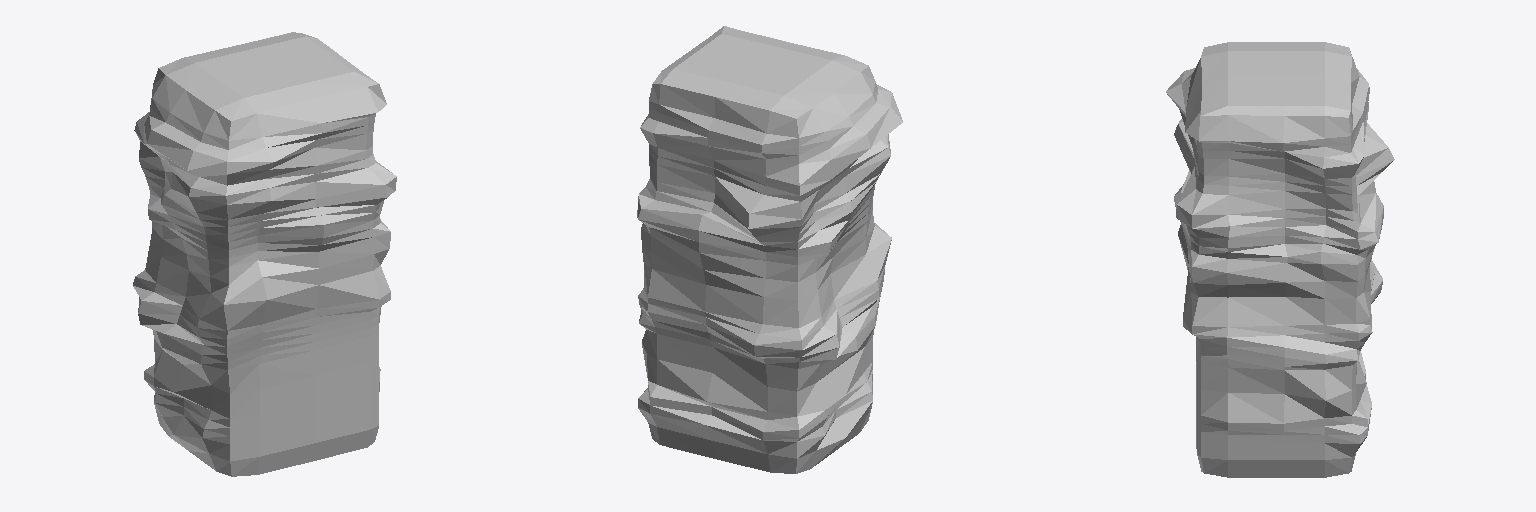
Rendered from env_level1_Canyon_Rock21.obj.
3 views of the same model, side by side, from view 1: azimuth 30°, elevation 25°; view 2: azimuth 150°, elevation 25°; view 3: azimuth 270°, elevation 25° (orthographic).
Visible parts, largest first — view 1: rockwall_c03; view 2: rockwall_c03; view 3: rockwall_c03.
Boxes of the visible parts, x1,y1,x2,y2 form: rockwall_c03: [133, 32, 396, 476]; rockwall_c03: [637, 26, 902, 473]; rockwall_c03: [1166, 42, 1394, 477].
Size of the model in its own units: 4306 by 7232 by 4040.